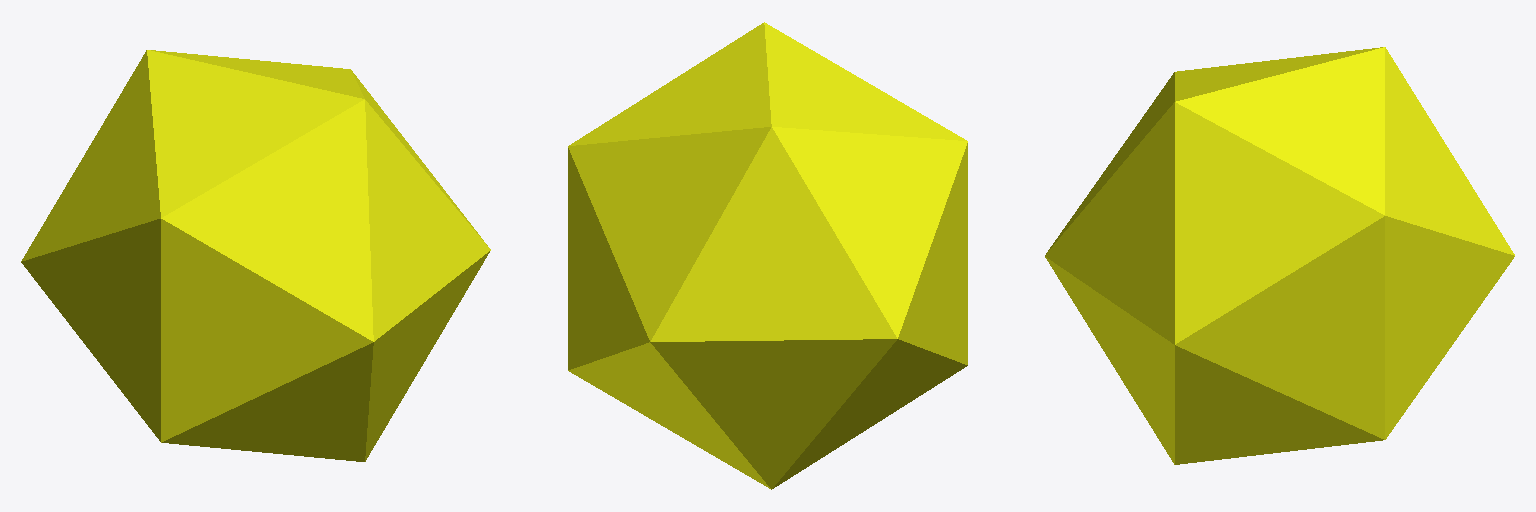
3 views of the same model, side by side, from view 1: azimuth 30°, elevation 25°; view 2: azimuth 150°, elevation 25°; view 3: azimuth 270°, elevation 25° (orthographic).
Parts seen in each view (by area): view 1: pasted__pPlatonic2 group; view 2: pasted__pPlatonic2 group; view 3: pasted__pPlatonic2 group.
Part boxes in pixels (x1,y1,x2,y2): pasted__pPlatonic2 group: (21,50,490,461); pasted__pPlatonic2 group: (568,22,967,489); pasted__pPlatonic2 group: (1045,47,1514,464).
Size of the model in its own units: 0.9228 by 0.8776 by 1.03.
Materials: 1 (1 with a texture image).